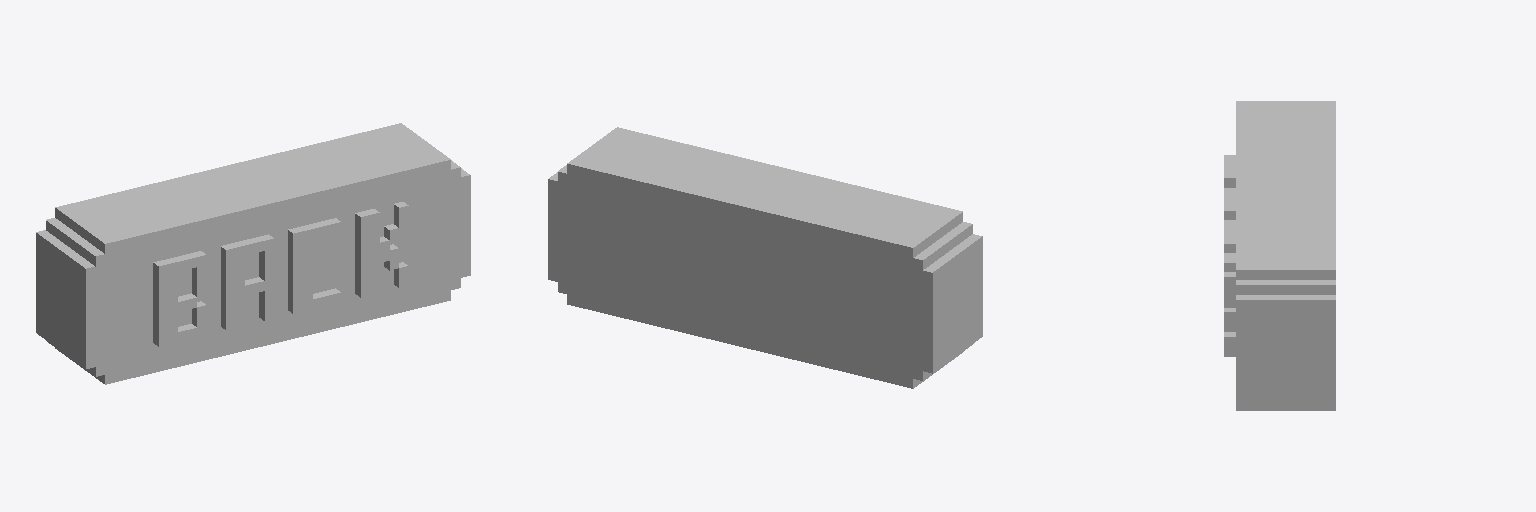
The model's file is Back.obj.
3 views of the same model, side by side, from view 1: azimuth 30°, elevation 25°; view 2: azimuth 150°, elevation 25°; view 3: azimuth 270°, elevation 25° (orthographic).
Parts seen in each view (by area): view 1: object 1; view 2: object 1; view 3: object 1.
Boxes of the visible parts, x1=… form: object 1: x1=36, y1=123, x2=470, y2=384; object 1: x1=548, y1=127, x2=982, y2=388; object 1: x1=1224, y1=101, x2=1335, y2=410.
Size of the model in its own units: 4 by 1.4 by 1.